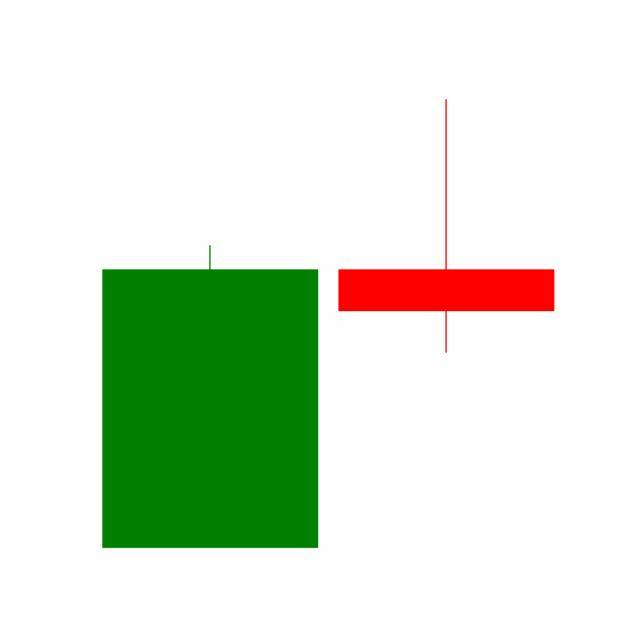Gravestone Doji: (328, 97, 566, 357)
